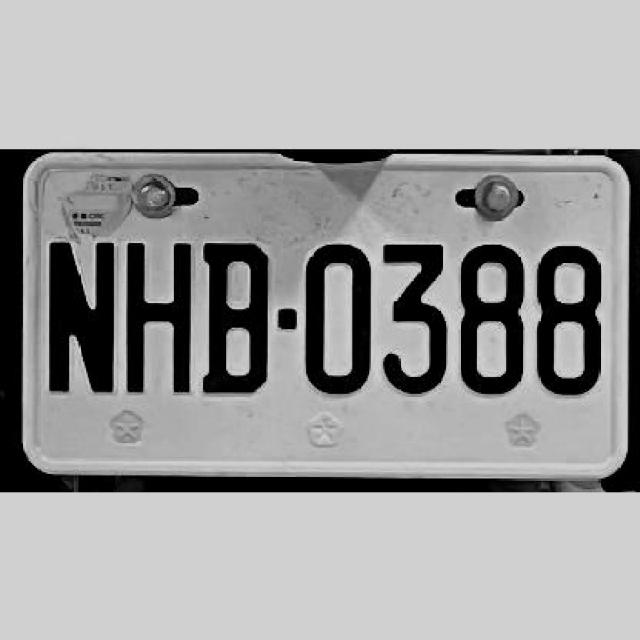-: (277, 305, 295, 329)
0: (298, 234, 374, 400)
3: (377, 231, 449, 397)
8: (450, 236, 528, 402), (532, 236, 608, 402)
B: (200, 234, 274, 400)
H: (116, 231, 196, 392)
N: (45, 232, 122, 396)
